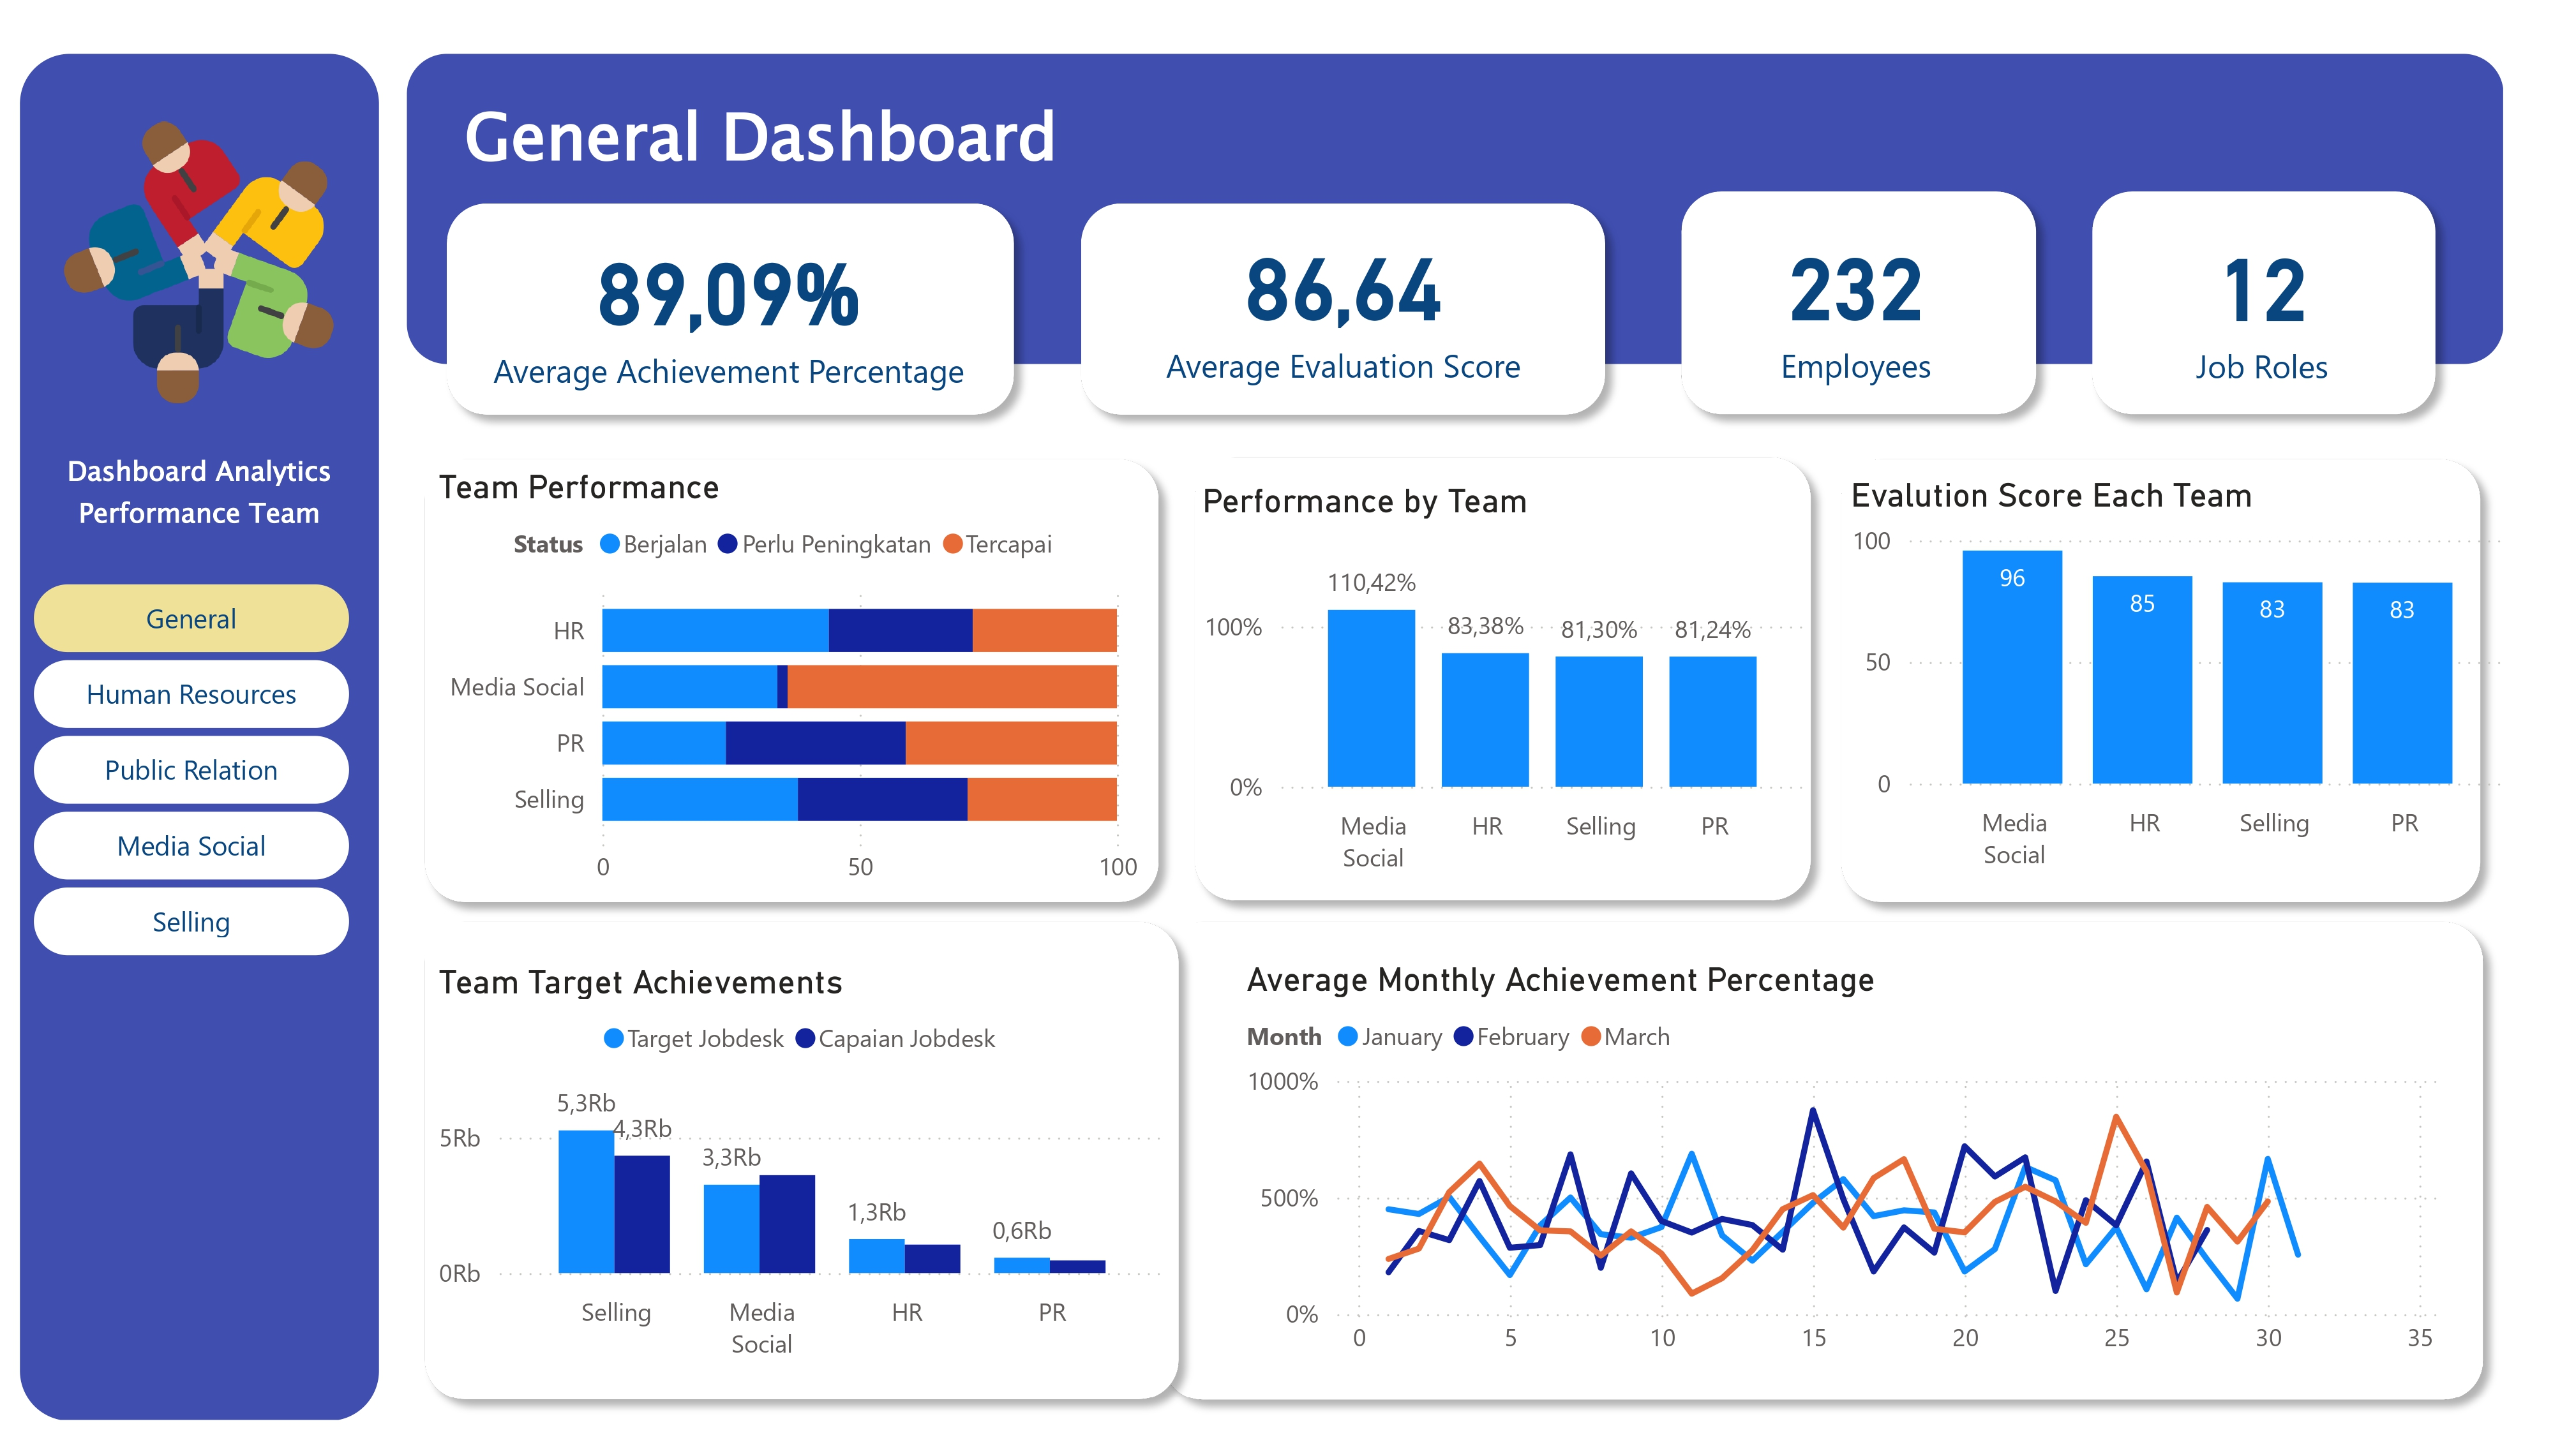

This screenshot's page, from the dashboard's own definition file:
{"tool":"powerbi","page":{"name":"General","canvas":[1280,720],"ordinal":0},"visuals":[{"type":"shape","box":[10.1,21.6,180,685.4],"z":0},{"type":"shape","box":[204.5,21.6,1051.2,155.5],"z":1000},{"type":"textbox","box":[227.5,34.6,560.2,64.8],"z":2000},{"type":"textbox","box":[10.1,216,180,491],"z":3000},{"type":"image","box":[24.5,0,151.2,253.4],"z":4000},{"type":"shape","box":[833.8,82.1,195.8,129.6],"z":5000},{"type":"card","fields":{"Values":["Count(Data_General.ID_Karyawan)"]},"box":[855.4,87.8,151.2,116.6],"z":6000},{"type":"shape","box":[1039.7,82.1,190.1,129.6],"z":7000},{"type":"card","fields":{"Values":["Count(Data_General.Peran)"]},"box":[1081.4,102.2,106.6,89.3],"z":8000},{"type":"shape","box":[574,448,680,258],"z":9000},{"type":"lineChart","title":"Average Monthly Achievement Percentage","fields":{"Y":["Sum(Data_General.Persentase_Capaian)"],"Category":["Data_General.Tanggal.Variation.Date Hierarchy.Day"],"Series":["Data_General.Tanggal.Variation.Date Hierarchy.Month"]},"box":[620,476,608,208],"z":10000},{"type":"shape","box":[204.5,447.8,396,257.8],"z":11000},{"type":"clusteredColumnChart","title":"Team Target Achievements","fields":{"Category":["Data_General.Tim"],"Y":["Sum(Data_General.Target_Jobdesk)","Sum(Data_General.Realisasi_Jobdesk)"]},"box":[214.6,476.6,375.8,207.4],"z":12000},{"type":"shape","box":[914.4,216,338.4,240.5],"z":13000},{"type":"columnChart","title":"Evalution Score Each Team","fields":{"Category":["Data_General.Tim"],"Y":["Avg(Data_General.Skor_Evaluasi)"]},"box":[923,233.3,339.8,205.9],"z":14000},{"type":"shape","box":[590.4,214.6,326.9,240.5],"z":15000},{"type":"shape","box":[204.5,216,385.9,240.5],"z":16000},{"type":"columnChart","title":"Performance by Team","fields":{"Category":["Data_General.Tim"],"Y":["Avg(Data_General.Persentase_Capaian)"]},"box":[597.6,236.2,312.5,204.5],"z":17000},{"type":"barChart","title":"Team Performance","fields":{"Category":["Data_General.Tim"],"Series":["Data_General.Status"],"Y":["CountNonNull(Data_General.Status)"]},"box":[214.6,229,360,218.9],"z":18000},{"type":"shape","box":[532.8,87.8,280.8,123.8],"z":19000},{"type":"card","fields":{"Values":["Avg(Data_General.Skor_Evaluasi)"]},"box":[574.6,87.8,197.3,116.6],"z":20000},{"type":"shape","box":[214.6,87.8,302.4,123.8],"z":21000},{"type":"card","fields":{"Values":["Avg(Data_General.Persentase_Capaian)"]},"box":[237.6,102.2,254.9,93.6],"z":22000},{"type":"pageNavigator","box":[17.3,288,158.4,188.6],"z":23001}]}

Visuals, with their boxes in screenshot pixels (x1, y1, x2, y2), scaled from the page's 1280x720 canvas onto the 2553x1456 screenshot:
shape: crop(20, 43, 379, 1430)
shape: crop(408, 43, 2504, 358)
textbox: crop(454, 70, 1571, 201)
textbox: crop(20, 437, 379, 1430)
image: crop(49, 0, 350, 512)
shape: crop(1663, 166, 2053, 428)
card - Count(Data_General.ID_Karyawan): crop(1706, 177, 2008, 413)
shape: crop(2074, 166, 2453, 428)
card - Count(Data_General.Peran): crop(2157, 207, 2369, 387)
shape: crop(1145, 906, 2501, 1428)
"Average Monthly Achievement Percentage" lineChart: crop(1237, 963, 2450, 1383)
shape: crop(408, 905, 1198, 1427)
"Team Target Achievements" clusteredColumnChart: crop(428, 964, 1178, 1383)
shape: crop(1824, 437, 2499, 923)
"Evalution Score Each Team" columnChart: crop(1841, 472, 2519, 888)
shape: crop(1178, 434, 1830, 920)
shape: crop(408, 437, 1178, 923)
"Performance by Team" columnChart: crop(1192, 478, 1815, 891)
"Team Performance" barChart: crop(428, 463, 1146, 906)
shape: crop(1063, 177, 1622, 428)
card - Avg(Data_General.Skor_Evaluasi): crop(1146, 177, 1539, 413)
shape: crop(428, 177, 1031, 428)
card - Avg(Data_General.Persentase_Capaian): crop(474, 207, 982, 396)
pageNavigator: crop(34, 583, 350, 964)
